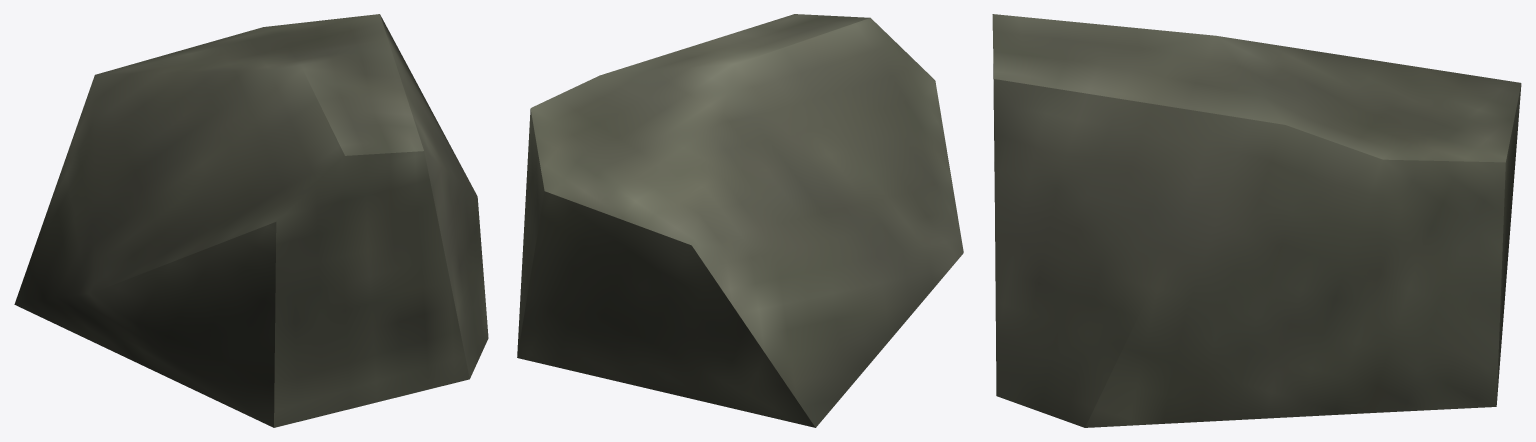
Rendered from Rock_14B.fbx.
3 views of the same model, side by side, from view 1: azimuth 30°, elevation 25°; view 2: azimuth 150°, elevation 25°; view 3: azimuth 270°, elevation 25° (orthographic). The views are drawn at different scales.
Parts seen in each view (by area): view 1: Rock_14B; view 2: Rock_14B; view 3: Rock_14B.
Boxes of the visible parts, x1,y1,x2,y2 form: Rock_14B: (14,14,488,427); Rock_14B: (517,14,963,427); Rock_14B: (992,14,1521,427).
Bounding box in the file's own units: 68.66 × 45.81 × 69.
1 material, 1 textured.
